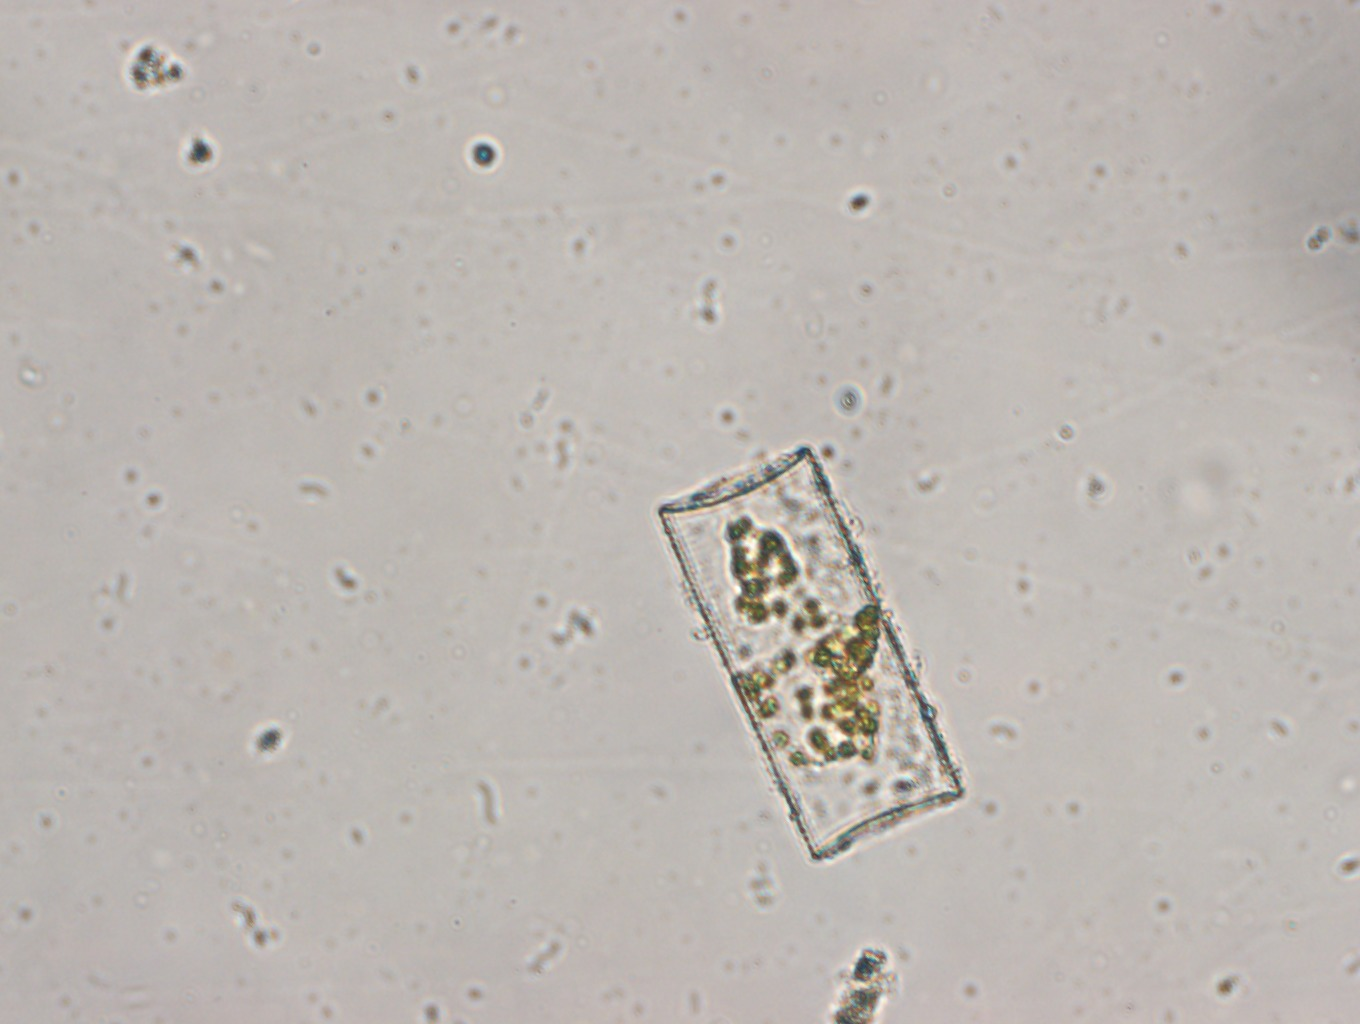guinardia flaccida: (652, 436, 969, 868)
